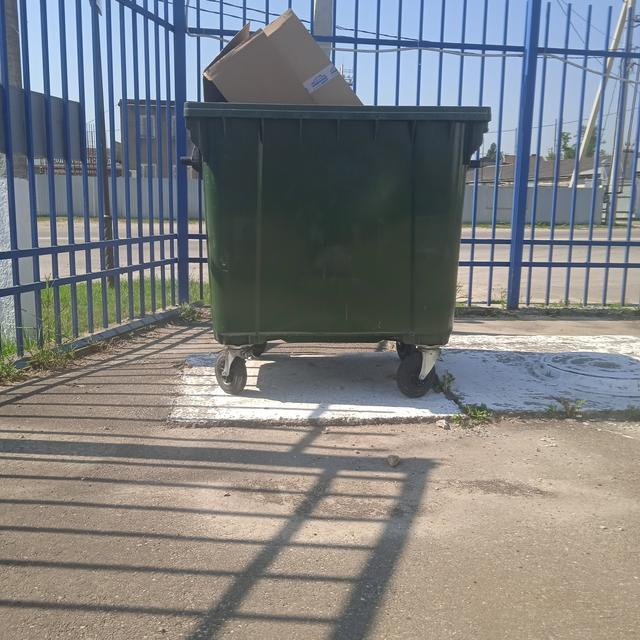Trash_Can_Full: (181, 6, 492, 348)
